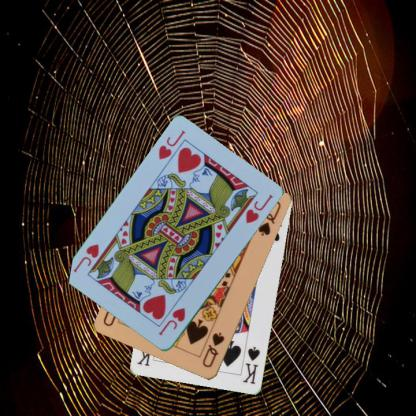Jh: (156, 128, 186, 161), (156, 305, 186, 337)
Ks: (240, 344, 262, 386)
Qs: (200, 329, 226, 370)
